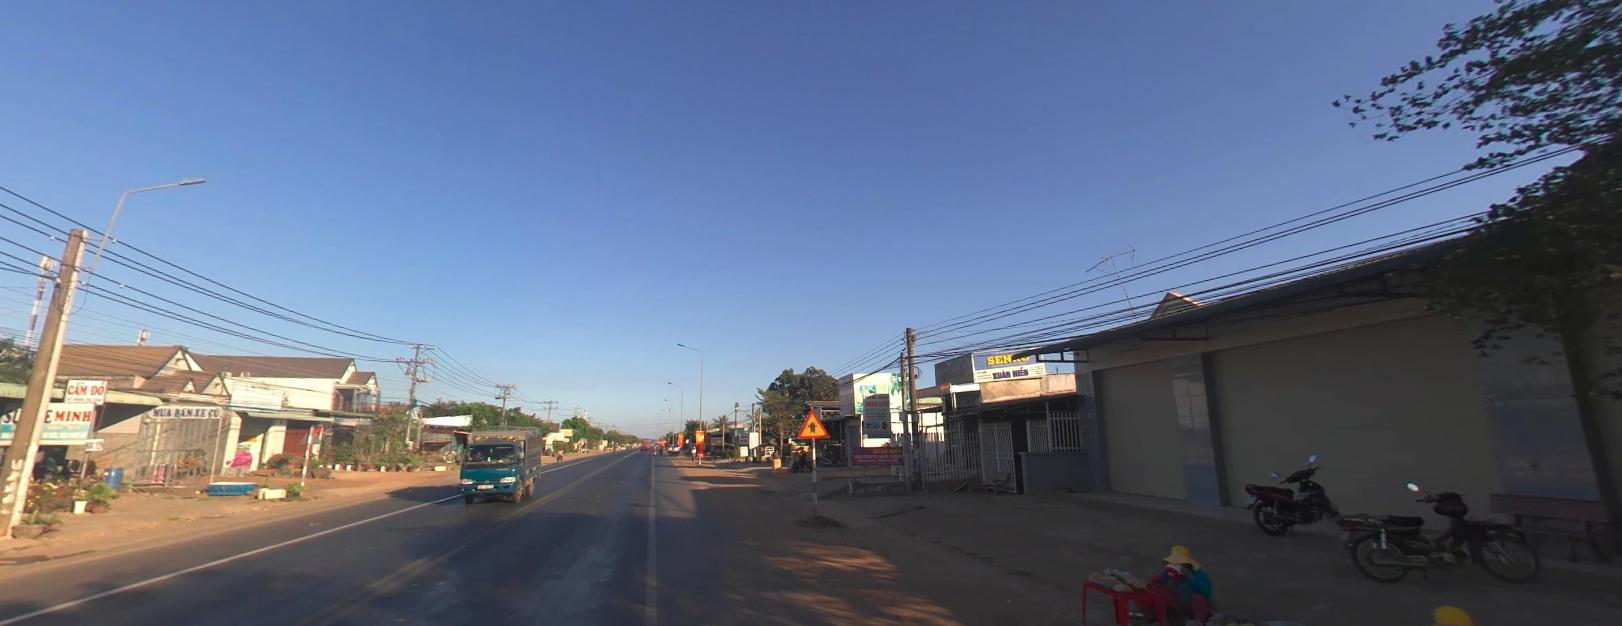Nguy hiem: (795, 409, 830, 438)
